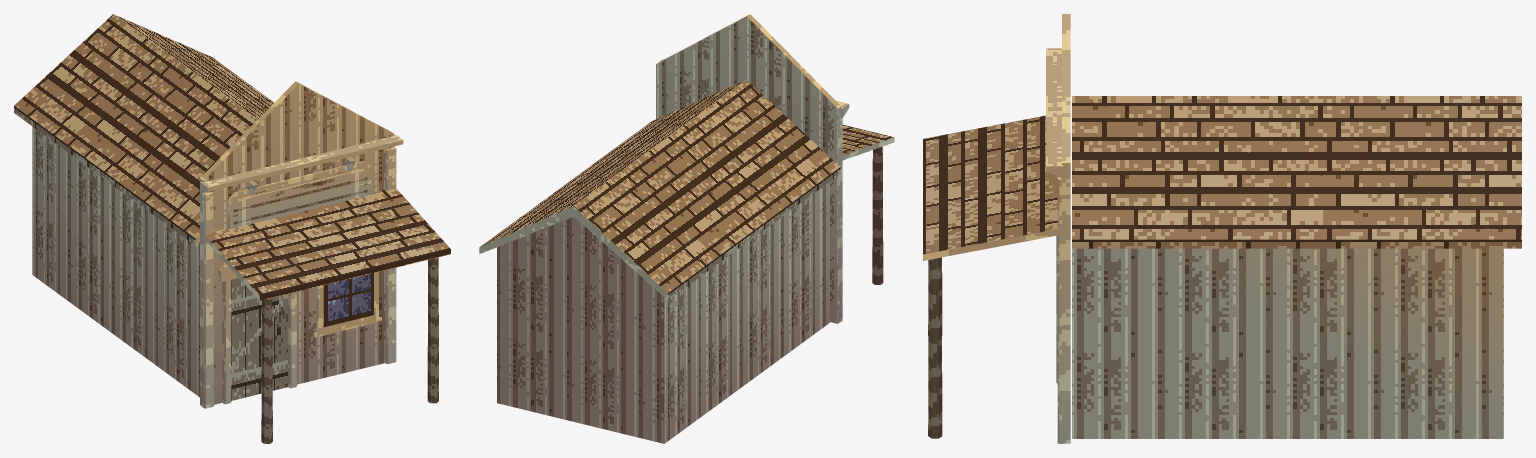
The model's file is wtown.facade__d_gabled.glb.
3 views of the same model, side by side, from view 1: azimuth 30°, elevation 25°; view 2: azimuth 150°, elevation 25°; view 3: azimuth 270°, elevation 25° (orthographic). The views are drawn at different scales.
Visible parts, largest first — view 1: kit_roof, kit_body, kit_porch, kit_front, kit_card_panes, kit_trim, kit_windows; view 2: kit_body, kit_roof, kit_front, kit_porch, kit_trim; view 3: kit_body, kit_roof, kit_porch, kit_trim, kit_front.
Boxes of the visible parts, x1=… form: kit_roof: x1=14, y1=14, x2=274, y2=245; kit_body: x1=32, y1=126, x2=199, y2=397; kit_porch: x1=204, y1=188, x2=450, y2=443; kit_front: x1=200, y1=81, x2=394, y2=406; kit_card_panes: x1=231, y1=165, x2=373, y2=400; kit_trim: x1=200, y1=135, x2=403, y2=408; kit_windows: x1=313, y1=272, x2=381, y2=337; kit_body: x1=497, y1=182, x2=829, y2=443; kit_roof: x1=479, y1=80, x2=840, y2=299; kit_front: x1=656, y1=14, x2=841, y2=323; kit_porch: x1=842, y1=125, x2=894, y2=284; kit_trim: x1=657, y1=58, x2=849, y2=321; kit_body: x1=1072, y1=248, x2=1503, y2=438; kit_roof: x1=1072, y1=96, x2=1521, y2=248; kit_porch: x1=923, y1=115, x2=1058, y2=438; kit_trim: x1=1046, y1=48, x2=1063, y2=443; kit_front: x1=1062, y1=14, x2=1070, y2=443.
Size of the model in its own units: 3.94 by 5.7 by 8.32.
Materials: 7 (7 with a texture image).
